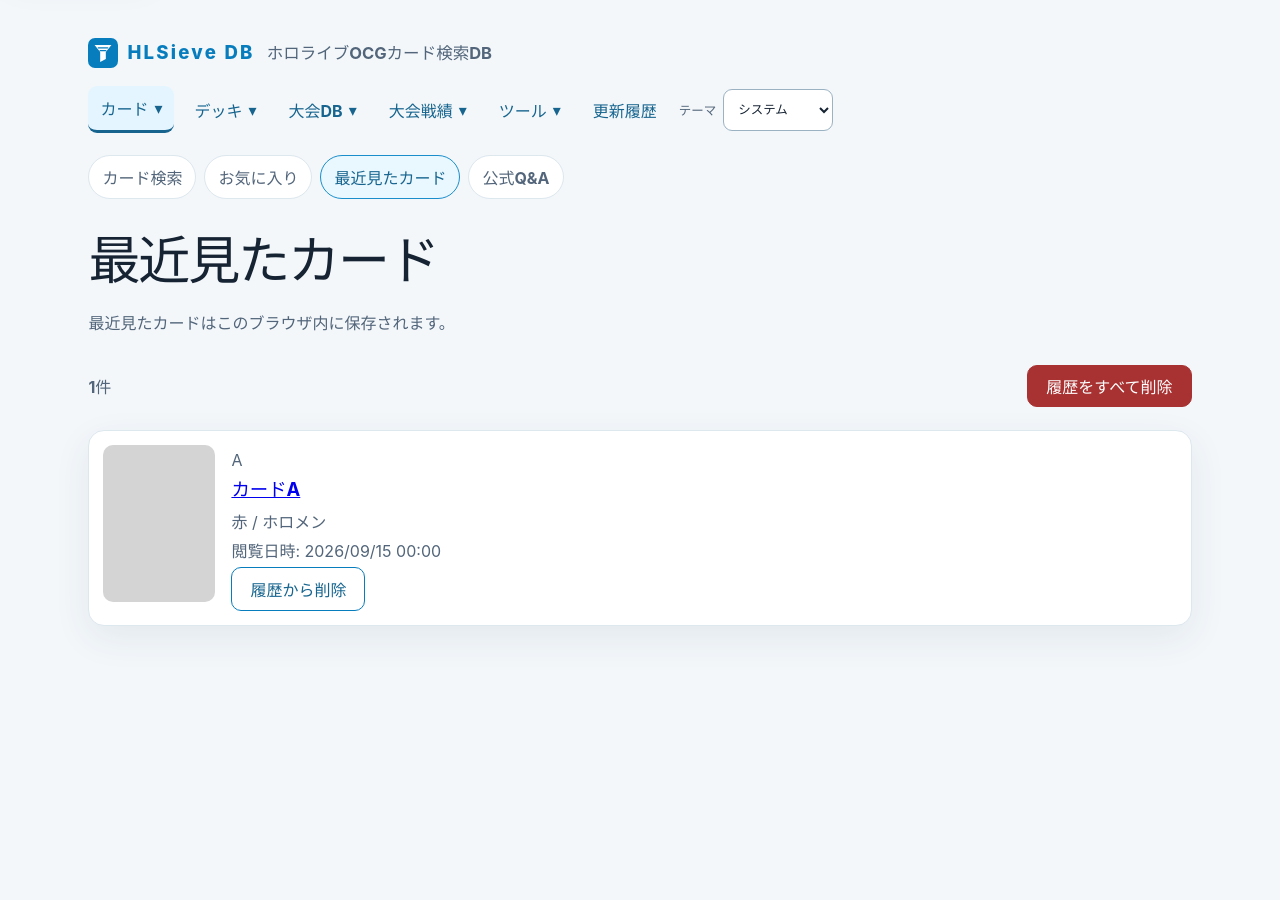
RecentlyViewedCardsPage › shows load and mutation errors with alert semantics
The width and height of the screenshot is (1280, 900).
Later steps or results of the test are not shown.
Click the button with aria-label "カードAを最近見たカードから削除": (298, 589) [231,567,365,611]
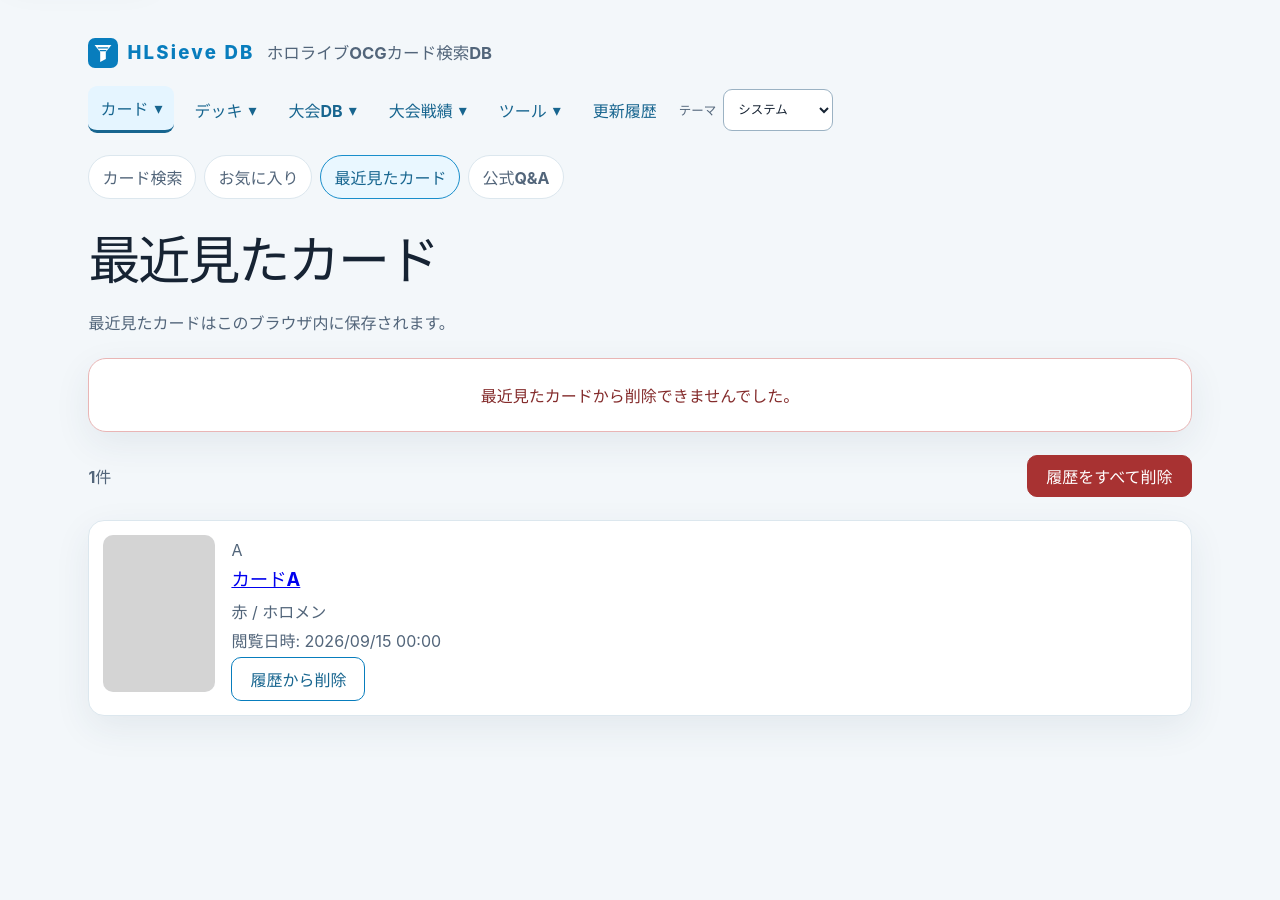
expect the message reads "最近見たカードから削除できませんでした。": met, box [481,386,799,406]
